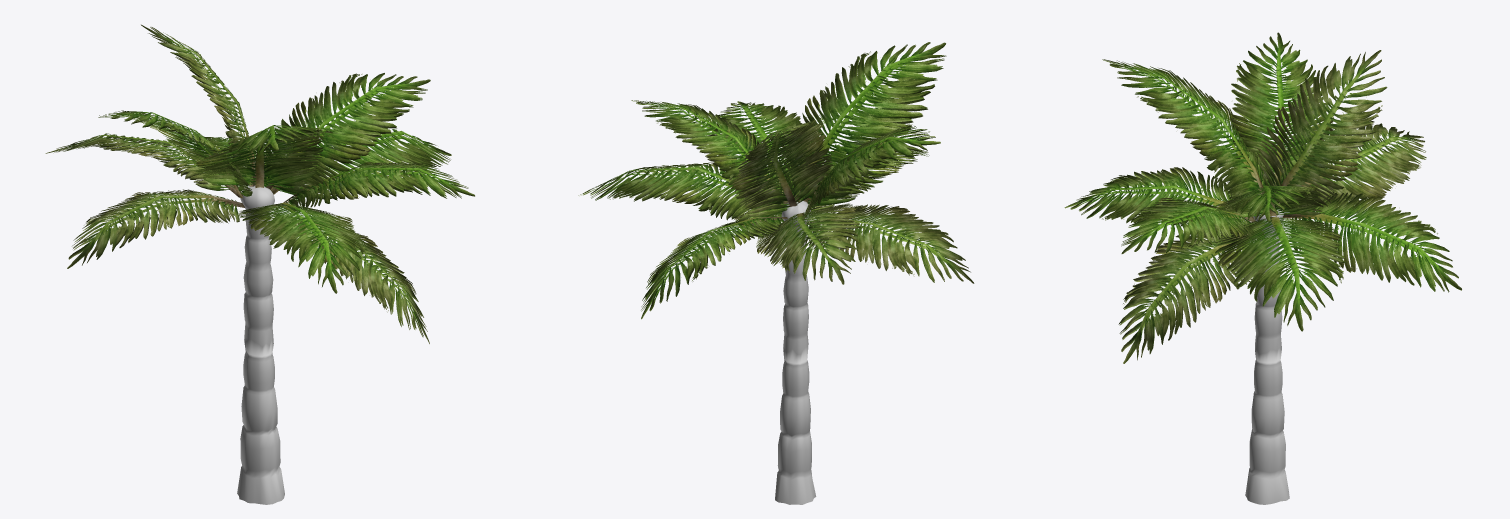
The model's file is PalmTree01.fbx.
3 renders of one model, left to right at view 1: azimuth 30°, elevation 25°; view 2: azimuth 150°, elevation 25°; view 3: azimuth 270°, elevation 25°, orthographic. The views are drawn at different scales.
Visible parts, largest first — view 1: Plane, Cylinder; view 2: Plane, Cylinder; view 3: Plane, Cylinder.
Part boxes in pixels (x1,y1,x2,y2): Plane: (45, 24, 474, 343); Cylinder: (237, 185, 284, 504); Plane: (578, 42, 974, 319); Cylinder: (775, 200, 816, 504); Plane: (1064, 32, 1461, 363); Cylinder: (1245, 203, 1289, 504).
Bounding box in the file's own units: 580 × 583 × 551.
